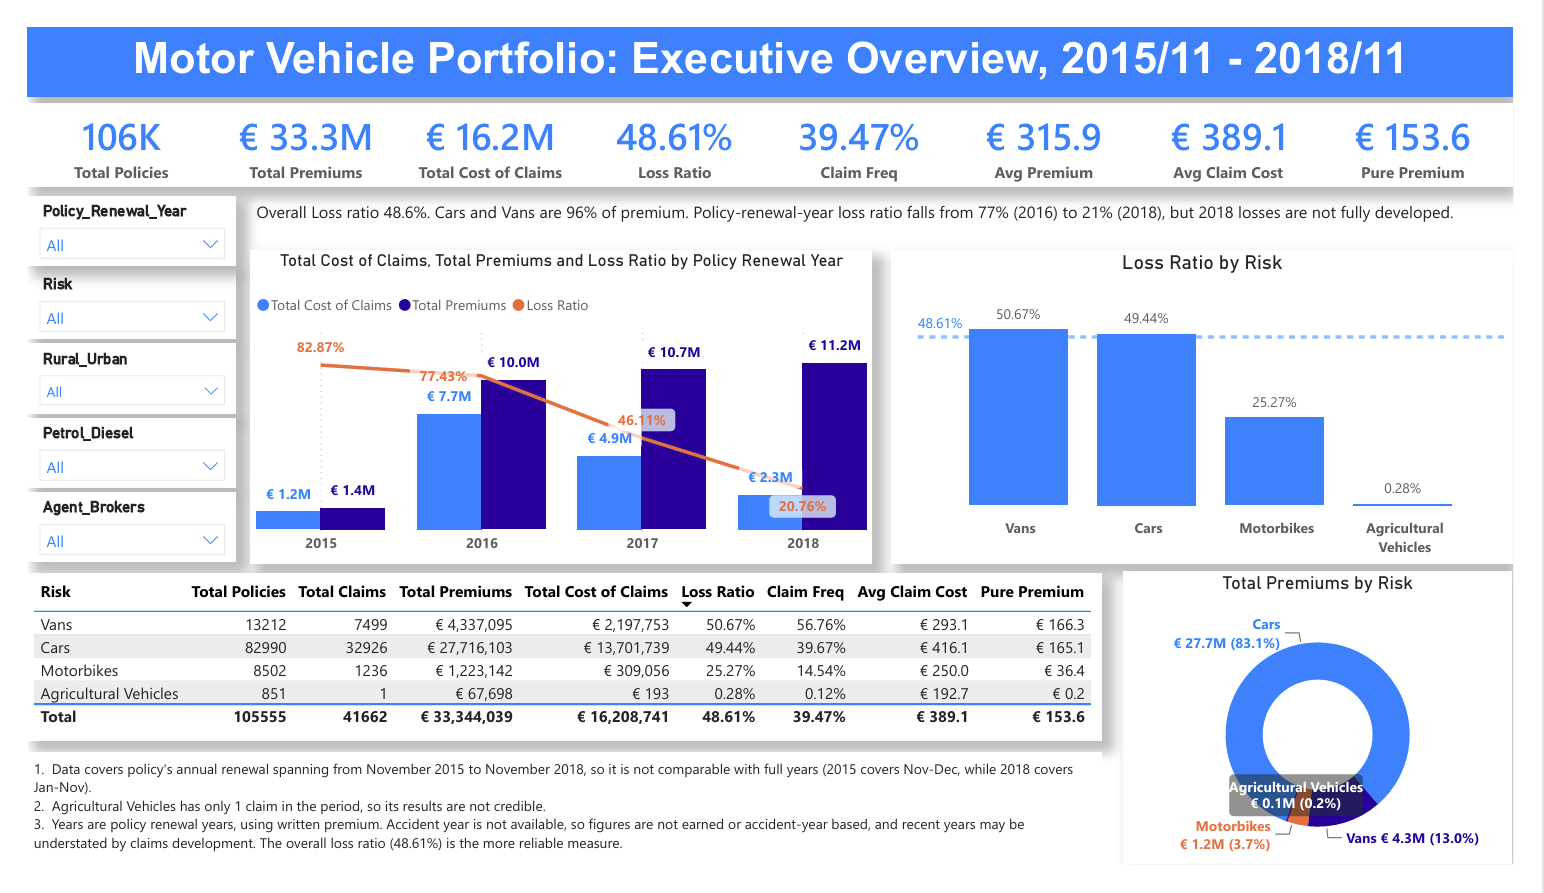

Layout of this report page (visuals, bound fields, positions):
{"tool":"powerbi","page":{"name":"1. Executive Overview","canvas":[1280,720],"ordinal":0},"visuals":[{"type":"textbox","box":[0,0,1280,60],"z":0},{"type":"cardVisual","fields":{"Data":["Motor vehicle insurance data.Total Policies","Motor vehicle insurance data.Total Premiums","Motor vehicle insurance data.Total Cost of Claims","Motor vehicle insurance data.Loss Ratio","Motor vehicle insurance data.Claim Freq","Motor vehicle insurance data.Avg Premium","Motor vehicle insurance data.Avg Claim Cost","Motor vehicle insurance data.Pure Premium"]},"box":[0,65,1280,72],"z":1000},{"type":"slicer","fields":{"Values":["Motor vehicle insurance data.Risk"]},"box":[0,208,180,60],"z":2000},{"type":"slicer","fields":{"Values":["Motor vehicle insurance data.Rural_Urban"]},"box":[0,272,180,61],"z":3000},{"type":"slicer","fields":{"Values":["Motor vehicle insurance data.Petrol_Diesel"]},"box":[0,336,180,60],"z":4000},{"type":"slicer","fields":{"Values":["Motor vehicle insurance data.Agent_Brokers"]},"box":[0,400,180,60],"z":5000},{"type":"slicer","fields":{"Values":["Motor vehicle insurance data.Calendar Year"]},"box":[0,145,180,60],"z":6000},{"type":"lineClusteredColumnComboChart","title":"Total Cost of Claims, Total Premiums and Loss Ratio by Policy Renewal Year","fields":{"Category":["Motor vehicle insurance data.Calendar Year"],"Y":["Motor vehicle insurance data.Total Cost of Claims","Motor vehicle insurance data.Total Premiums"],"Y2":["Motor vehicle insurance data.Loss Ratio"]},"box":[192,192,536,270],"z":7000},{"type":"columnChart","fields":{"Category":["Motor vehicle insurance data.Risk"],"Y":["Motor vehicle insurance data.Loss Ratio"]},"box":[744,192,536,270],"z":8000},{"type":"donutChart","fields":{"Category":["Motor vehicle insurance data.Risk"],"Y":["Motor vehicle insurance data.Total Premiums"]},"box":[944,468,335,252],"z":9000},{"type":"tableEx","title":"Risk Performance Table","fields":{"Values":["Motor vehicle insurance data.Risk","Motor vehicle insurance data.Total Policies","Motor vehicle insurance data.Total Claims","Motor vehicle insurance data.Total Premiums","Motor vehicle insurance data.Total Cost of Claims","Motor vehicle insurance data.Loss Ratio","Motor vehicle insurance data.Claim Freq","Motor vehicle insurance data.Avg Claim Cost","Motor vehicle insurance data.Pure Premium"]},"box":[0,470,926,144],"z":10000},{"type":"textbox","box":[0,624,926,96],"z":11000},{"type":"textbox","box":[192,144,1088,32],"z":12000}]}

Visuals, with their boxes in screenshot pixels (x1, y1, x2, y2), scaled from the page's 1280x720 canvas onto the 1544x893 screenshot:
textbox: (0,0,1543,74)
cardVisual - Motor vehicle insurance data.Total Policies x Motor vehicle insurance data.Total Premiums: (0,81,1543,170)
slicer - Motor vehicle insurance data.Risk: (0,258,217,332)
slicer - Motor vehicle insurance data.Rural_Urban: (0,337,217,413)
slicer - Motor vehicle insurance data.Petrol_Diesel: (0,417,217,491)
slicer - Motor vehicle insurance data.Agent_Brokers: (0,496,217,571)
slicer - Motor vehicle insurance data.Calendar Year: (0,180,217,254)
"Total Cost of Claims, Total Premiums and Loss Ratio by Policy Renewal Year" lineClusteredColumnComboChart: (232,238,878,573)
columnChart - Motor vehicle insurance data.Risk x Motor vehicle insurance data.Loss Ratio: (897,238,1543,573)
donutChart - Motor vehicle insurance data.Risk x Motor vehicle insurance data.Total Premiums: (1139,580,1543,892)
"Risk Performance Table" tableEx: (0,583,1117,762)
textbox: (0,774,1117,892)
textbox: (232,179,1543,218)
